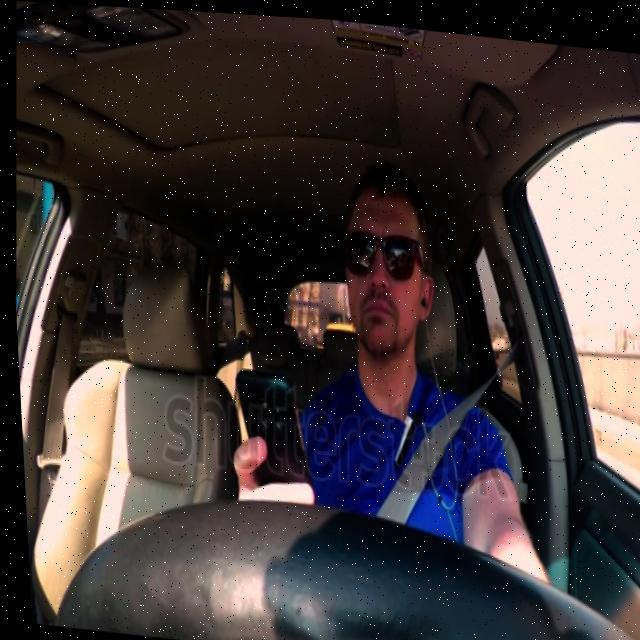PhoneCall: (224, 353, 318, 498)
